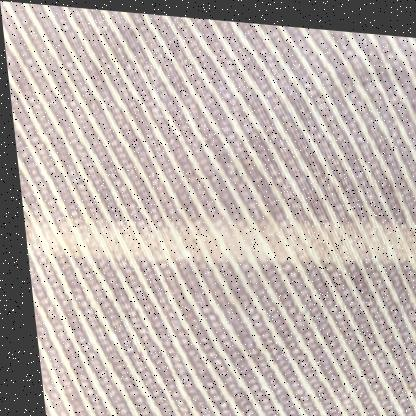spot: (191, 83, 412, 399)
